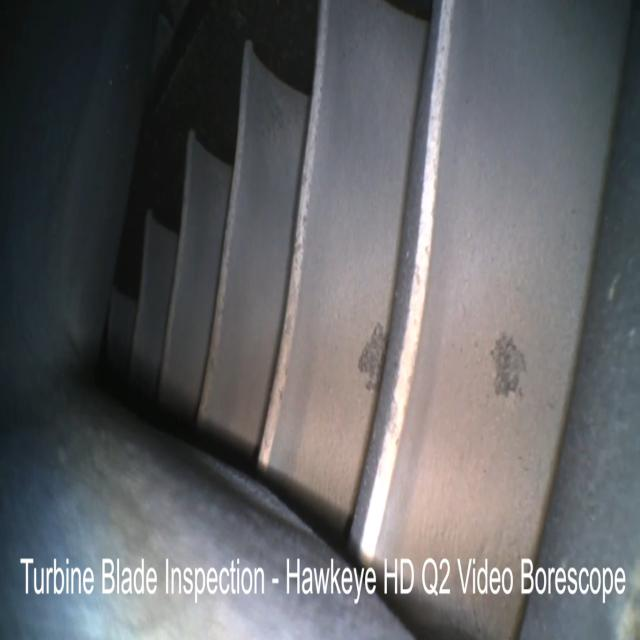burn: (490, 331, 528, 396), (356, 324, 387, 389)
turbine_blade: (370, 1, 631, 551), (267, 6, 427, 531), (206, 44, 308, 447), (157, 136, 232, 424)
